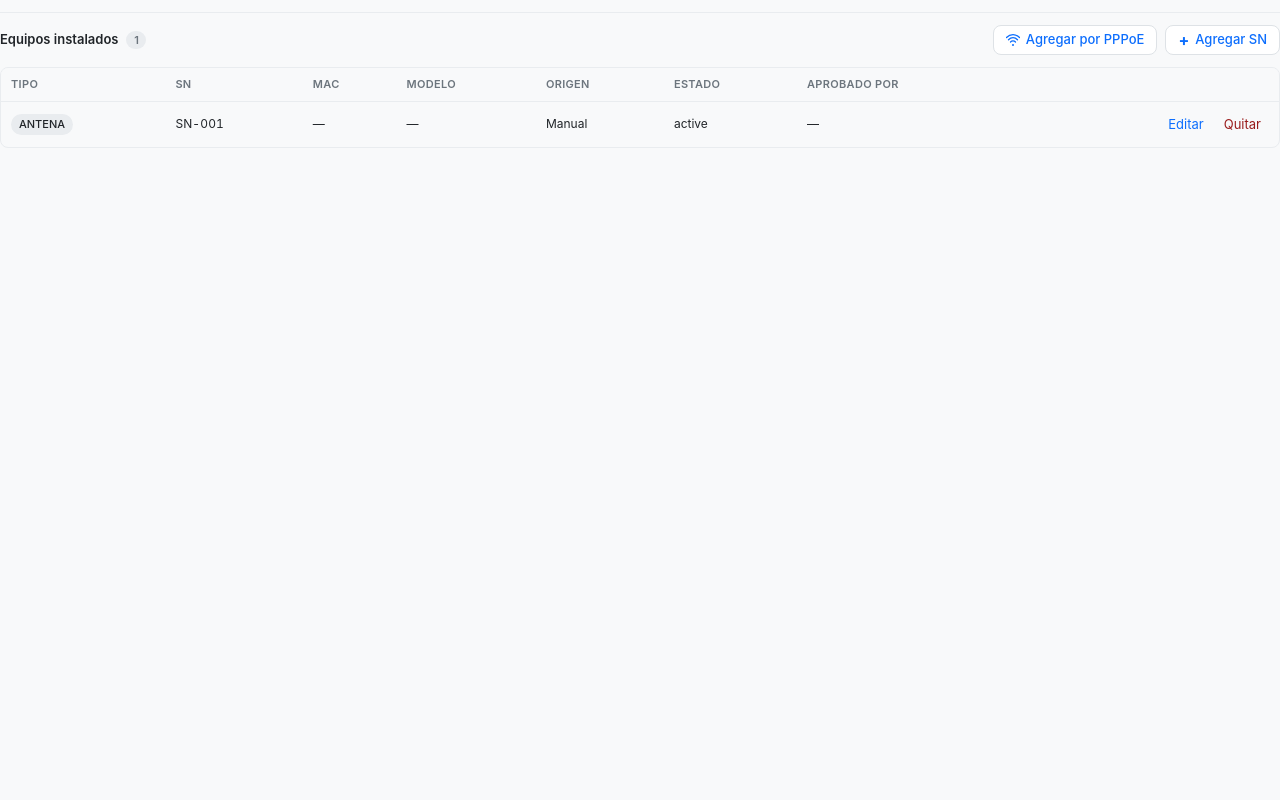
Scenario: ServiceInventorySection — Quitar (retire flow) › closes the modal after a successful retire
Click the button "Quitar": point(1242, 124) [1216,110,1269,138]
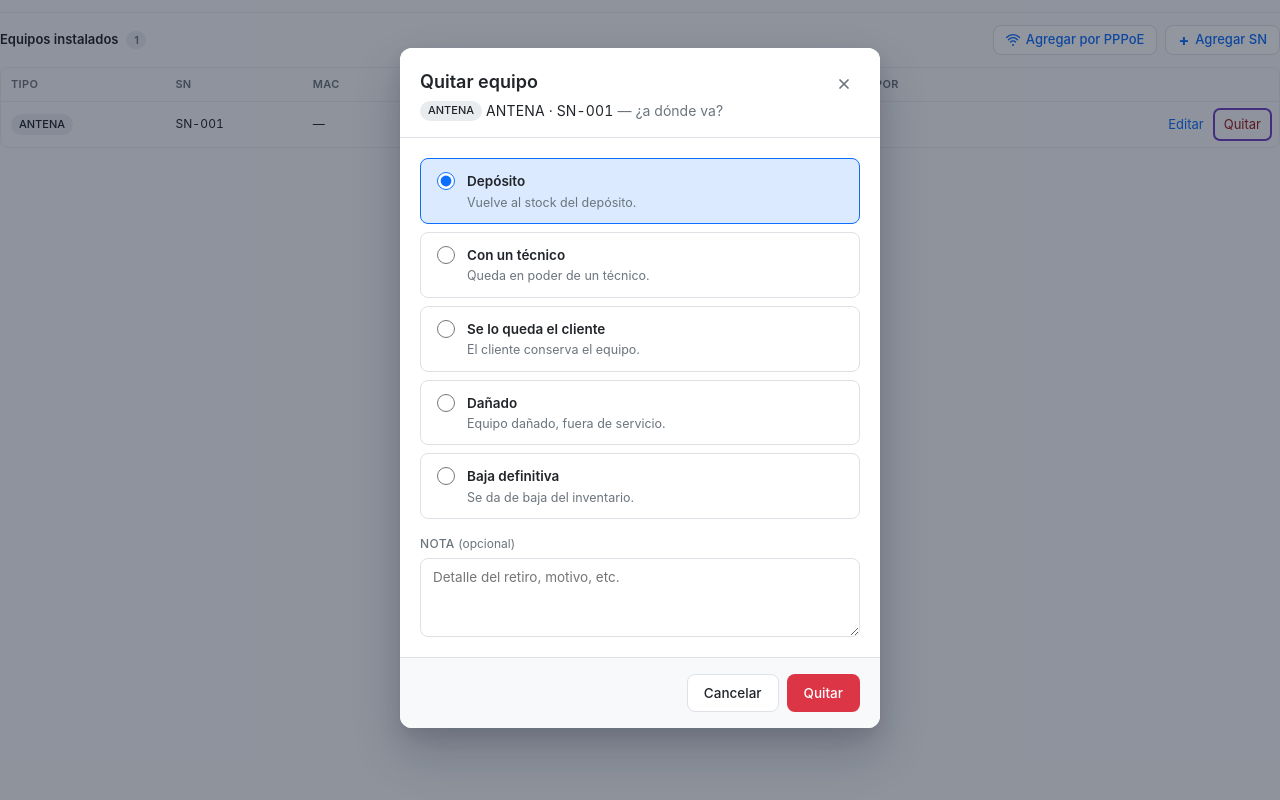
Click the button "Quitar": point(823, 693) [786,674,860,712]
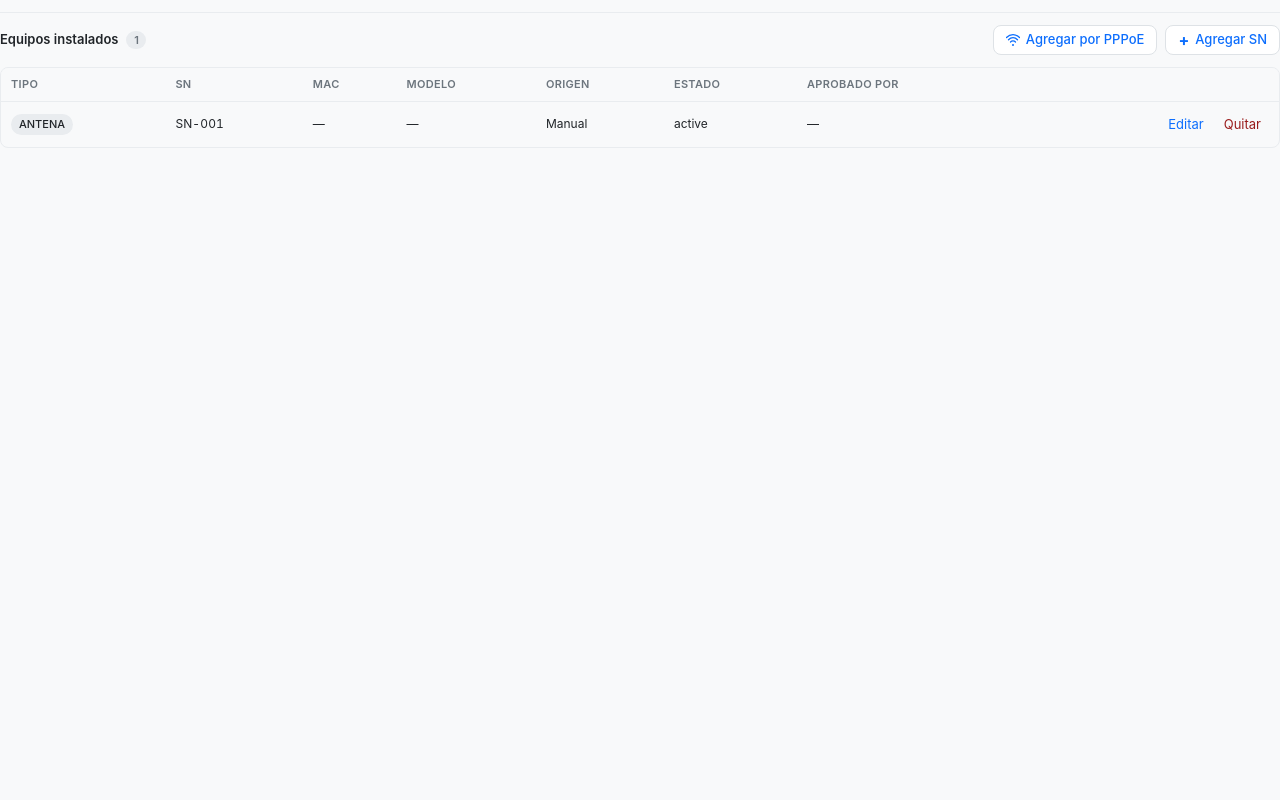
Check: the dialog is gone
